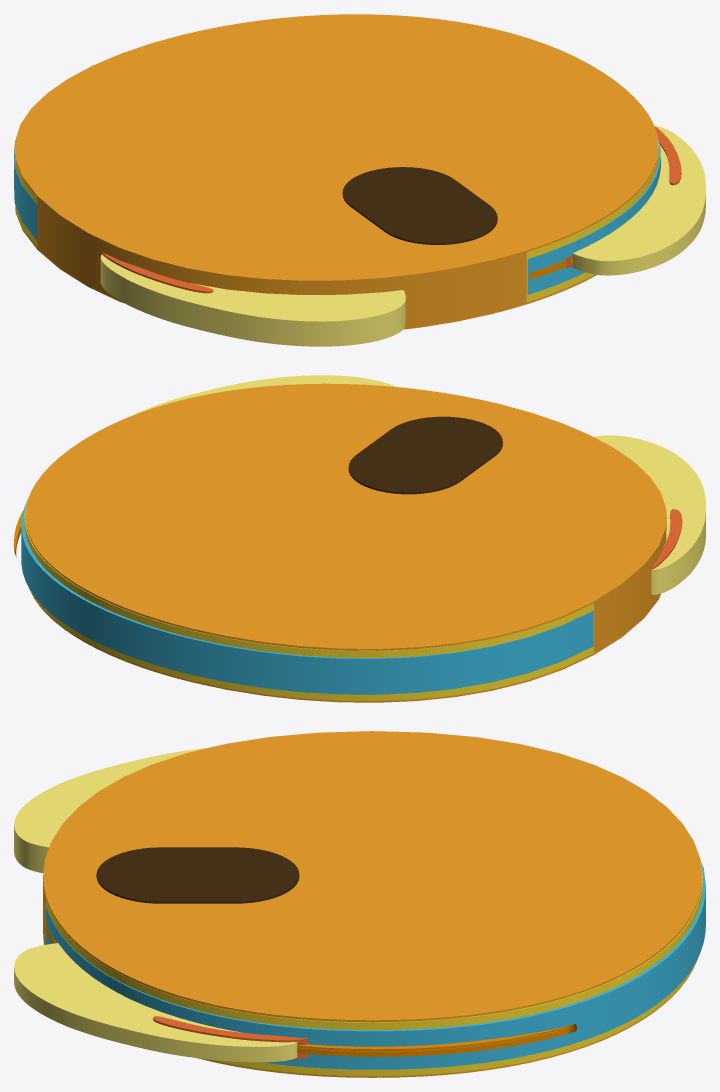
The model's file is emoji_u1f631.glb.
The picture shows the model from 3 angles, top to bottom: view 1: azimuth 30°, elevation 25°; view 2: azimuth 150°, elevation 25°; view 3: azimuth 270°, elevation 25°; orthographic projection. The views are drawn at different scales.
Parts seen in each view (by area): view 1: emoji_u1f631; view 2: emoji_u1f631; view 3: emoji_u1f631.
Part boxes in pixels (x1,y1,x2,y2): emoji_u1f631: (14, 14, 705, 346); emoji_u1f631: (14, 375, 705, 702); emoji_u1f631: (14, 731, 705, 1077).
Size of the model in its own units: 0.0331 by 0.0032 by 0.0326.
